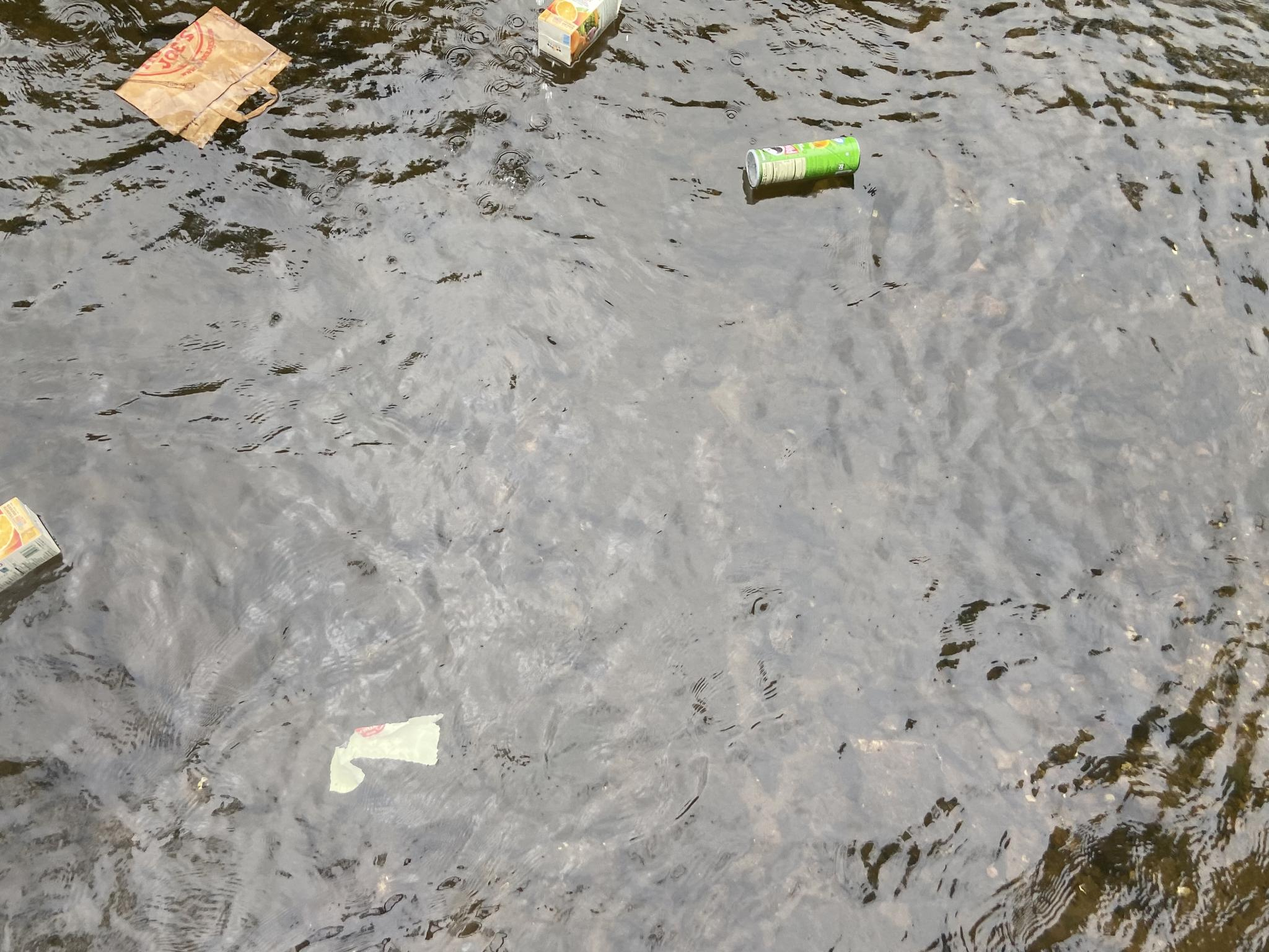cardboard: (528, 0, 630, 77)
metal: (730, 134, 872, 192), (0, 491, 71, 604)
paper: (111, 0, 301, 157)
plastic: (322, 700, 450, 800)
